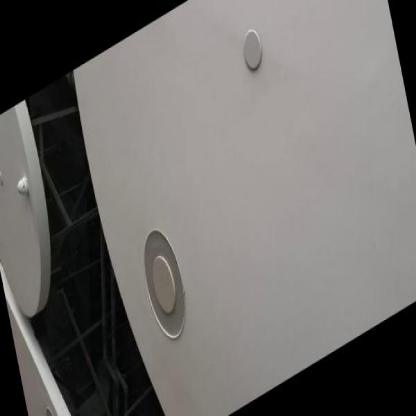light_off: (124, 184, 212, 379), (35, 380, 77, 415)
